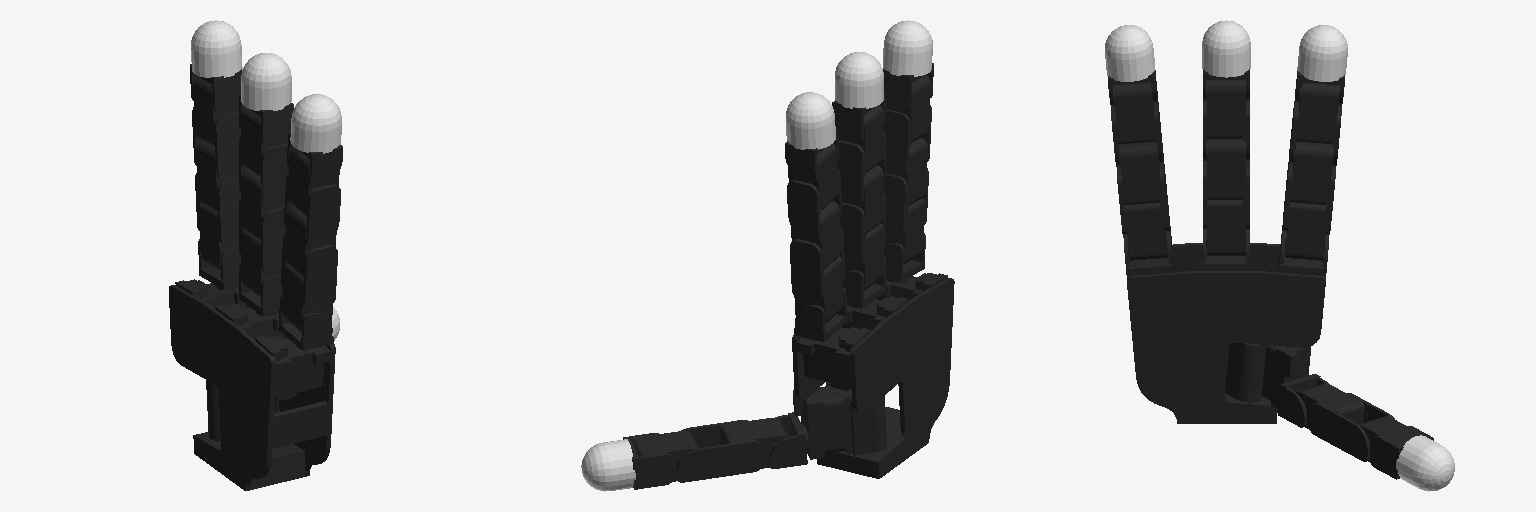
robot.urdf — allegro_hand_right:
<?xml version="1.0" ?>
<!-- =================================================================================== -->
<!-- |    This document was autogenerated by xacro from src/allegro_hand_description/allegro_hand_description_right.xacro | -->
<!-- |    EDITING THIS FILE BY HAND IS NOT RECOMMENDED                                 | -->
<!-- =================================================================================== -->
<robot name="allegro_hand_right">
  <!-- ============================================================================= -->
  <!-- PALM -->
  <link name="palm_link">
    <visual>
      <geometry>
        <mesh filename="allegro_description/meshes/base_link.obj"/>
      </geometry>
      <origin rpy="0 0 0" xyz="0 0 0 "/>
      <material name="black">
        <color rgba="0.2 0.2 0.2 1"/>
      </material>
    </visual>
    <!--
    <collision>
      <origin rpy="0 0 0" xyz="-0.009300 0 -0.0475"/>
      <geometry>
        <box size="0.0408 0.1130 0.095"/>
      </geometry>
    </collision>
    -->
    <collision>
      <origin rpy="0 0 0" xyz="-0.009300 0 -0.025"/>
      <geometry>
        <box size="0.0408 0.112 0.032"/>
      </geometry>
    </collision>
    <collision>
      <origin rpy="0 0 0" xyz="-0.009300 -0.03 -0.063"/>
      <geometry>
        <box size="0.0408 0.052 0.045"/>
      </geometry>
    </collision>
    <inertial>
      <origin rpy="0 0 0" xyz="0 0 0.0475"/>
      <mass value="0.4154"/>
      <inertia ixx="1e-4" ixy="0.0" ixz="0.0" iyy="1e-4" iyz="0.0" izz="1e-4"/>
    </inertial>
  </link>
  <!-- ============================================================================= -->
  <!-- END THUMB MACRO -->
  <!-- [[END]] THREE FINGER MACRO -->
  <!-- [LINK 0, 4, 8] -->
  <link name="link_00">
    <visual>
      <geometry>
        <mesh filename="allegro_description/meshes/link_0.0.obj"/>
      </geometry>
      <material name="black"/>
    </visual>
    <collision>
      <geometry>
        <box size="0.0196 0.0275 0.0164"/>
      </geometry>
      <origin rpy="0 0 0" xyz="0 0 0.0082"/>
    </collision>
    <inertial>
      <mass value="0.0119"/>
      <origin rpy="0 0 0" xyz="0 0 0"/>
      <inertia ixx="1.01666658333e-06" ixy="0.0" ixz="0.0" iyy="6.47677333333e-07" iyz="0.0" izz="1.01666658333e-06"/>
    </inertial>
  </link>
  <joint name="joint_00" type="revolute">
    <axis xyz="0 0 1"/>
    <limit effort="15" lower="-0.47" upper="0.47" velocity="7"/>
    <parent link="palm_link"/>
    <child link="link_00"/>
    <origin rpy="-0.08726646254999999 0 0" xyz="0 0.0435 -0.001542"/>
    <dynamics damping="3" friction="10"/>
  </joint>
  <!-- [LINK 1, 5, 9] -->
  <link name="link_01">
    <visual>
      <geometry>
        <mesh filename="allegro_description/meshes/link_1.0.obj"/>
      </geometry>
      <material name="black"/>
    </visual>
    <collision>
      <geometry>
        <box size="0.0196 0.0275 0.054"/>
      </geometry>
      <origin rpy="0 0 0" xyz="0 0 0.027"/>
    </collision>
    <inertial>
      <mass value="0.065"/>
      <origin rpy="0 0 0" xyz="0 0 0"/>
      <inertia ixx="7.95654166667e-05" ixy="1.7199e-05" ixz="8.75875e-06" iyy="2.47088833333e-05" iyz="2.413125e-05" izz="7.95654166667e-05"/>
    </inertial>
  </link>
  <joint name="joint_01" type="revolute">
    <limit effort="15" lower="-0.19599999999999998" upper="1.6099999999999999" velocity="7"/>
    <axis xyz="0 1 0"/>
    <parent link="link_00"/>
    <child link="link_01"/>
    <origin xyz="0 0 0.0164"/>
    <dynamics damping="3" friction="5"/>
  </joint>
  <!-- [LINK 2, 6, 10]-->
  <link name="link_02">
    <visual>
      <geometry>
        <mesh filename="allegro_description/meshes/link_2.0.obj"/>
      </geometry>
      <material name="black"/>
    </visual>
    <collision>
      <geometry>
        <box size="0.0196 0.0275 0.0384"/>
      </geometry>
      <origin rpy="0 0 0" xyz="0 0 0.0192"/>
    </collision>
    <inertial>
      <mass value="0.0355"/>
      <origin rpy="0 0 0" xyz="0 0 0"/>
      <inertia ixx="2.63979183333e-05" ixy="6.67968e-06" ixz="4.783625e-06" iyy="1.34948516667e-05" iyz="9.372e-06" izz="2.63979183333e-05"/>
    </inertial>
  </link>
  <joint name="joint_02" type="revolute">
    <axis xyz="0 1 0"/>
    <limit effort="15" lower="-0.17400000000000002" upper="1.7089999999999999" velocity="7"/>
    <parent link="link_01"/>
    <child link="link_02"/>
    <origin xyz="0 0 0.054"/>
    <dynamics damping="8" friction="10"/>
  </joint>
  <!-- [LINK 3, 7, 11] -->
  <link name="link_03">
    <visual>
      <geometry>
        <mesh filename="package://allegro_description/meshes/link_3.0.obj"/>
      </geometry>
      <material name="black"/>
    </visual>
    <collision>
      <geometry>
        <box size="0.0196 0.0275 0.026699999999999998"/>
      </geometry>
      <origin rpy="0 0 0" xyz="0 0 0.013349999999999999"/>
    </collision>
    <inertial>
      <mass value="0.0096"/>
      <origin rpy="0 0 0" xyz="0 0 0"/>
      <inertia ixx="4.701248e-06" ixy="1.255968e-06" ixz="1.2936e-06" iyy="3.649312e-06" iyz="1.7622e-06" izz="4.701248e-06"/>
    </inertial>
  </link>
  <joint name="joint_03" type="revolute">
    <axis xyz="0 1 0"/>
    <limit effort="15" lower="-0.227" upper="1.6179999999999999" velocity="7"/>
    <parent link="link_02"/>
    <child link="link_03"/>
    <origin xyz="0 0 0.0384"/>
    <dynamics damping="10" friction="12"/>
  </joint>
  <!-- [FINGER TIP] -->
  <link name="link_03_tip">
    <visual>
      <geometry>
        <mesh filename="allegro_description/meshes/link_3.0_tip.obj"/>
      </geometry>
      <material name="white">
        <color rgba=".9 .9 .9 1"/>
      </material>
    </visual>
    <collision>
      <geometry>
        <sphere radius="0.012"/>
      </geometry>
    </collision>
    <inertial>
      <mass value="0.0168"/>
      <origin rpy="0 0 0" xyz="0 0 0"/>
      <inertia ixx="9.68e-07" ixy="0" ixz="0" iyy="9.68e-07" iyz="0" izz="9.68e-07"/>
    </inertial>
  </link>
  <joint name="joint_03_tip" type="fixed">
    <parent link="link_03"/>
    <child link="link_03_tip"/>
    <origin rpy="0 0 0" xyz="0 0 0.026699999999999998"/>
  </joint>
  <!-- [LINK 0, 4, 8] -->
  <link name="link_04">
    <visual>
      <geometry>
        <mesh filename="allegro_description/meshes/link_0.0.obj"/>
      </geometry>
      <material name="black"/>
    </visual>
    <collision>
      <geometry>
        <box size="0.0196 0.0275 0.0164"/>
      </geometry>
      <origin rpy="0 0 0" xyz="0 0 0.0082"/>
    </collision>
    <inertial>
      <mass value="0.0119"/>
      <origin rpy="0 0 0" xyz="0 0 0"/>
      <inertia ixx="1.01666658333e-06" ixy="0.0" ixz="0.0" iyy="6.47677333333e-07" iyz="0.0" izz="1.01666658333e-06"/>
    </inertial>
  </link>
  <joint name="joint_04" type="revolute">
    <axis xyz="0 0 1"/>
    <limit effort="15" lower="-0.47" upper="0.47" velocity="7"/>
    <parent link="palm_link"/>
    <child link="link_04"/>
    <origin rpy="0.0 0 0" xyz="0 0 0.0007"/>
    <dynamics damping="3" friction="10"/>
  </joint>
  <!-- [LINK 1, 5, 9] -->
  <link name="link_05">
    <visual>
      <geometry>
        <mesh filename="allegro_description/meshes/link_1.0.obj"/>
      </geometry>
      <material name="black"/>
    </visual>
    <collision>
      <geometry>
        <box size="0.0196 0.0275 0.054"/>
      </geometry>
      <origin rpy="0 0 0" xyz="0 0 0.027"/>
    </collision>
    <inertial>
      <mass value="0.065"/>
      <origin rpy="0 0 0" xyz="0 0 0"/>
      <inertia ixx="7.95654166667e-05" ixy="1.7199e-05" ixz="8.75875e-06" iyy="2.47088833333e-05" iyz="2.413125e-05" izz="7.95654166667e-05"/>
    </inertial>
  </link>
  <joint name="joint_05" type="revolute">
    <limit effort="15" lower="-0.19599999999999998" upper="1.6099999999999999" velocity="7"/>
    <axis xyz="0 1 0"/>
    <parent link="link_04"/>
    <child link="link_05"/>
    <origin xyz="0 0 0.0164"/>
    <dynamics damping="3" friction="5"/>
  </joint>
  <!-- [LINK 2, 6, 10]-->
  <link name="link_06">
    <visual>
      <geometry>
        <mesh filename="allegro_description/meshes/link_2.0.obj"/>
      </geometry>
      <material name="black"/>
    </visual>
    <collision>
      <geometry>
        <box size="0.0196 0.0275 0.0384"/>
      </geometry>
      <origin rpy="0 0 0" xyz="0 0 0.0192"/>
    </collision>
    <inertial>
      <mass value="0.0355"/>
      <origin rpy="0 0 0" xyz="0 0 0"/>
      <inertia ixx="2.63979183333e-05" ixy="6.67968e-06" ixz="4.783625e-06" iyy="1.34948516667e-05" iyz="9.372e-06" izz="2.63979183333e-05"/>
    </inertial>
  </link>
  <joint name="joint_06" type="revolute">
    <axis xyz="0 1 0"/>
    <limit effort="15" lower="-0.17400000000000002" upper="1.7089999999999999" velocity="7"/>
    <parent link="link_05"/>
    <child link="link_06"/>
    <origin xyz="0 0 0.054"/>
    <dynamics damping="8" friction="10"/>
  </joint>
  <!-- [LINK 3, 7, 11] -->
  <link name="link_07">
    <visual>
      <geometry>
        <mesh filename="allegro_description/meshes/link_3.0.obj"/>
      </geometry>
      <material name="black"/>
    </visual>
    <collision>
      <geometry>
        <box size="0.0196 0.0275 0.026699999999999998"/>
      </geometry>
      <origin rpy="0 0 0" xyz="0 0 0.013349999999999999"/>
    </collision>
    <inertial>
      <mass value="0.0096"/>
      <origin rpy="0 0 0" xyz="0 0 0"/>
      <inertia ixx="4.701248e-06" ixy="1.255968e-06" ixz="1.2936e-06" iyy="3.649312e-06" iyz="1.7622e-06" izz="4.701248e-06"/>
    </inertial>
  </link>
  <joint name="joint_07" type="revolute">
    <axis xyz="0 1 0"/>
    <limit effort="15" lower="-0.227" upper="1.6179999999999999" velocity="7"/>
    <parent link="link_06"/>
    <child link="link_07"/>
    <origin xyz="0 0 0.0384"/>
    <dynamics damping="10" friction="12"/>
  </joint>
  <!-- [FINGER TIP] -->
  <link name="link_07_tip">
    <visual>
      <geometry>
        <mesh filename="allegro_description/meshes/link_3.0_tip.obj"/>
      </geometry>
      <material name="white">
        <color rgba=".9 .9 .9 1"/>
      </material>
    </visual>
    <collision>
      <geometry>
        <sphere radius="0.012"/>
      </geometry>
    </collision>
    <inertial>
      <mass value="0.0168"/>
      <origin rpy="0 0 0" xyz="0 0 0"/>
      <inertia ixx="9.68e-07" ixy="0" ixz="0" iyy="9.68e-07" iyz="0" izz="9.68e-07"/>
    </inertial>
  </link>
  <joint name="joint_07_tip" type="fixed">
    <parent link="link_07"/>
    <child link="link_07_tip"/>
    <origin rpy="0 0 0" xyz="0 0 0.026699999999999998"/>
  </joint>
  <!-- [LINK 0, 4, 8] -->
  <link name="link_08">
    <visual>
      <geometry>
        <mesh filename="allegro_description/meshes/link_0.0.obj"/>
      </geometry>
      <material name="black"/>
    </visual>
    <collision>
      <geometry>
        <box size="0.0196 0.0275 0.0164"/>
      </geometry>
      <origin rpy="0 0 0" xyz="0 0 0.0082"/>
    </collision>
    <inertial>
      <mass value="0.0119"/>
      <origin rpy="0 0 0" xyz="0 0 0"/>
      <inertia ixx="1.01666658333e-06" ixy="0.0" ixz="0.0" iyy="6.47677333333e-07" iyz="0.0" izz="1.01666658333e-06"/>
    </inertial>
  </link>
  <joint name="joint_08" type="revolute">
    <axis xyz="0 0 1"/>
    <limit effort="15" lower="-0.47" upper="0.47" velocity="7"/>
    <parent link="palm_link"/>
    <child link="link_08"/>
    <origin rpy="0.08726646254999999 0 0" xyz="0 -0.0435 -0.001542"/>
    <dynamics damping="3" friction="10"/>
  </joint>
  <!-- [LINK 1, 5, 9] -->
  <link name="link_09">
    <visual>
      <geometry>
        <mesh filename="allegro_description/meshes/link_1.0.obj"/>
      </geometry>
      <material name="black"/>
    </visual>
    <collision>
      <geometry>
        <box size="0.0196 0.0275 0.054"/>
      </geometry>
      <origin rpy="0 0 0" xyz="0 0 0.027"/>
    </collision>
    <inertial>
      <mass value="0.065"/>
      <origin rpy="0 0 0" xyz="0 0 0"/>
      <inertia ixx="7.95654166667e-05" ixy="1.7199e-05" ixz="8.75875e-06" iyy="2.47088833333e-05" iyz="2.413125e-05" izz="7.95654166667e-05"/>
    </inertial>
  </link>
  <joint name="joint_09" type="revolute">
    <limit effort="15" lower="-0.19599999999999998" upper="1.6099999999999999" velocity="7"/>
    <axis xyz="0 1 0"/>
    <parent link="link_08"/>
    <child link="link_09"/>
    <origin xyz="0 0 0.0164"/>
    <dynamics damping="3" friction="5"/>
  </joint>
  <!-- [LINK 2, 6, 10]-->
  <link name="link_10">
    <visual>
      <geometry>
        <mesh filename="allegro_description/meshes/link_2.0.obj"/>
      </geometry>
      <material name="black"/>
    </visual>
    <collision>
      <geometry>
        <box size="0.0196 0.0275 0.0384"/>
      </geometry>
      <origin rpy="0 0 0" xyz="0 0 0.0192"/>
    </collision>
    <inertial>
      <mass value="0.0355"/>
      <origin rpy="0 0 0" xyz="0 0 0"/>
      <inertia ixx="2.63979183333e-05" ixy="6.67968e-06" ixz="4.783625e-06" iyy="1.34948516667e-05" iyz="9.372e-06" izz="2.63979183333e-05"/>
    </inertial>
  </link>
  <joint name="joint_10" type="revolute">
    <axis xyz="0 1 0"/>
    <limit effort="15" lower="-0.17400000000000002" upper="1.7089999999999999" velocity="7"/>
    <parent link="link_09"/>
    <child link="link_10"/>
    <origin xyz="0 0 0.054"/>
    <dynamics damping="8" friction="10"/>
  </joint>
  <!-- [LINK 3, 7, 11] -->
  <link name="link_11">
    <visual>
      <geometry>
        <mesh filename="allegro_description/meshes/link_3.0.obj"/>
      </geometry>
      <material name="black"/>
    </visual>
    <collision>
      <geometry>
        <box size="0.0196 0.0275 0.026699999999999998"/>
      </geometry>
      <origin rpy="0 0 0" xyz="0 0 0.013349999999999999"/>
    </collision>
    <inertial>
      <mass value="0.0096"/>
      <origin rpy="0 0 0" xyz="0 0 0"/>
      <inertia ixx="4.701248e-06" ixy="1.255968e-06" ixz="1.2936e-06" iyy="3.649312e-06" iyz="1.7622e-06" izz="4.701248e-06"/>
    </inertial>
  </link>
  <joint name="joint_11" type="revolute">
    <axis xyz="0 1 0"/>
    <limit effort="15" lower="-0.227" upper="1.6179999999999999" velocity="7"/>
    <parent link="link_10"/>
    <child link="link_11"/>
    <origin xyz="0 0 0.0384"/>
    <dynamics damping="10" friction="12"/>
  </joint>
  <!-- [FINGER TIP] -->
  <link name="link_11_tip">
    <visual>
      <geometry>
        <mesh filename="allegro_description/meshes/link_3.0_tip.obj"/>
      </geometry>
      <material name="white">
        <color rgba=".9 .9 .9 1"/>
      </material>
    </visual>
    <collision>
      <geometry>
        <sphere radius="0.012"/>
      </geometry>
    </collision>
    <inertial>
      <mass value="0.0168"/>
      <origin rpy="0 0 0" xyz="0 0 0"/>
      <inertia ixx="9.68e-07" ixy="0" ixz="0" iyy="9.68e-07" iyz="0" izz="9.68e-07"/>
    </inertial>
  </link>
  <joint name="joint_11_tip" type="fixed">
    <parent link="link_11"/>
    <child link="link_11_tip"/>
    <origin rpy="0 0 0" xyz="0 0 0.026699999999999998"/>
  </joint>
  <!-- [LINK 12] -->
  <link name="link_12">
    <visual>
      <geometry>
        <mesh filename="allegro_description/meshes/link_12.0_right.obj"/>
      </geometry>
      <material name="black">
        <color rgba=".2 .2 .2 1"/>
      </material>
      <origin rpy="0.01745329251 0 0" xyz="0 0 0"/>
    </visual>
    <collision>
      <geometry>
        <box size="0.0358 0.034 0.0455"/>
      </geometry>
      <origin rpy="0 0 0" xyz="-0.0179 0.009 0.0145"/>
    </collision>
    <inertial>
      <mass value="0.0176"/>
      <origin rpy="0 0 0" xyz="0 0 0"/>
      <inertia ixx="1.89273333333e-5" ixy="7.16716e-06" ixz="5.35568e-06" iyy="1.43008213333e-05" iyz="6.8068e-06" izz="1.89273333333e-05"/>
    </inertial>
  </link>
  <joint name="joint_12" type="revolute">
    <axis xyz="-1 0 0"/>
    <limit effort="15" lower="0.263" upper="1.396" velocity="7"/>
    <parent link="palm_link"/>
    <child link="link_12"/>
    <origin rpy="0 -1.6580627884499999 -1.5707963259" xyz="-0.0182 0.019333 -0.045987"/>
    <dynamics damping="3" friction="10"/>
  </joint>
  <!-- [LINK 13] -->
  <link name="link_13">
    <visual>
      <geometry>
        <mesh filename="allegro_description/meshes/link_13.0.obj"/>
      </geometry>
      <material name="black">
        <color rgba=".2 .2 .2 1"/>
      </material>
    </visual>
    <collision>
      <geometry>
        <box size="0.0196 0.0275 0.0177"/>
      </geometry>
      <origin rpy="0 0 0" xyz="0 0 0.00885"/>
    </collision>
    <inertial>
      <mass value="0.0119"/>
      <origin rpy="0 0 0" xyz="0 0 0"/>
      <inertia ixx="4.24250866667e-06" ixy="1.032087e-06" ixz="1.603525e-06" iyy="4.52362633333e-06" iyz="1.44808125e-06" izz="4.24250866667e-06"/>
    </inertial>
  </link>
  <joint name="joint_13" type="revolute">
    <axis xyz="0 0 1"/>
    <limit effort="15" lower="-0.10499999999999998" upper="1.1629999999999998" velocity="7"/>
    <parent link="link_12"/>
    <child link="link_13"/>
    <origin xyz="-0.027 0.005 0.0399"/>
    <dynamics damping="3" friction="5"/>
  </joint>
  <!-- [LINK 14] -->
  <link name="link_14">
    <visual>
      <geometry>
        <mesh filename="allegro_description/meshes/link_14.0.obj"/>
      </geometry>
      <material name="black">
                </material>
    </visual>
    <collision>
      <geometry>
        <box size="0.0196 0.0275 0.0514"/>
      </geometry>
      <origin rpy="0 0 0" xyz="0 0 0.0257"/>
    </collision>
    <inertial>
      <mass value="0.038"/>
      <origin rpy="0 0 0" xyz="0 0 0"/>
      <inertia ixx="4.30439933333e-05" ixy="9.57068e-06" ixz="5.1205e-06" iyy="1.44451933333e-05" iyz="1.342825e-05" izz="4.30439933333e-05"/>
    </inertial>
  </link>
  <joint name="joint_14" type="revolute">
    <axis xyz="0 1 0"/>
    <limit effort="15" lower="-0.18899999999999997" upper="1.644" velocity="7"/>
    <parent link="link_13"/>
    <child link="link_14"/>
    <origin xyz="0 0 0.0177"/>
    <dynamics damping="3" friction="10"/>
  </joint>
  <!-- [LINK 15] -->
  <link name="link_15">
    <visual>
      <geometry>
        <mesh filename="allegro_description/meshes/link_15.0.obj"/>
      </geometry>
      <material name="black">
                </material>
    </visual>
    <collision>
      <geometry>
        <box size="0.0196 0.0275 0.042300000000000004"/>
      </geometry>
      <origin rpy="0 0 0" xyz="0 0 0.021150000000000002"/>
    </collision>
    <inertial>
      <mass value="0.0388"/>
      <origin rpy="0 0 0" xyz="0 0 0"/>
      <inertia ixx="3.29223173333e-05" ixy="8.042076e-06" ixz="5.2283e-06" iyy="1.47493026667e-5" iyz="1.1283525e-5" izz="3.29223173333e-05"/>
    </inertial>
  </link>
  <joint name="joint_15" type="revolute">
    <axis xyz="0 1 0"/>
    <limit effort="15" lower="-0.162" upper="1.7189999999999999" velocity="7"/>
    <parent link="link_14"/>
    <child link="link_15"/>
    <origin xyz="0 0 0.0514"/>
    <dynamics damping="3" friction="12"/>
  </joint>
  <!-- [FINGER TIP] -->
  <link name="link_15_tip">
    <visual>
      <geometry>
        <mesh filename="allegro_description/meshes/link_15.0_tip.obj"/>
      </geometry>
      <material name="white">
        <color rgba=".9 .9 .9 1"/>
      </material>
    </visual>
    <collision>
      <geometry>
        <sphere radius="0.012"/>
      </geometry>
      <origin rpy="0 0 0" xyz="0 0 0"/>
    </collision>
    <inertial>
      <mass value="0.0168"/>
      <origin rpy="0 0 0" xyz="0 0 0"/>
      <inertia ixx="9.68e-07" ixy="0" ixz="0" iyy="9.68e-07" iyz="0" izz="9.68e-07"/>
    </inertial>
  </link>
  <joint name="joint_15_tip" type="fixed">
    <parent link="link_15"/>
    <child link="link_15_tip"/>
    <origin rpy="0 0 0" xyz="0 0 0.042300000000000004"/>
  </joint>
</robot>

--- Facts derived from the render (not from the file) ---
Views: 3 orthographic renders of the robot side by side, from view 1: azimuth 30°, elevation 25°; view 2: azimuth 150°, elevation 25°; view 3: azimuth 270°, elevation 25°.
Model allegro_hand_right with 21 links and 20 joints (16 revolute, 4 fixed), rooted at palm_link, posed all joints at 0 but 1 set to mid-range because 0 is outside their limits (joint_12 = 0.8295).
Visible links, largest first — view 1: palm_link, link_09, link_05, link_01, link_10, link_02, link_06, link_11_tip, link_07_tip, link_03_tip, link_08, link_07 (+5 smaller); view 2: palm_link, link_14, link_12, link_01, link_05, link_09, link_02, link_10, link_06, link_15, link_03_tip, link_07_tip (+9 smaller); view 3: palm_link, link_01, link_09, link_05, link_12, link_14, link_10, link_02, link_06, link_15_tip, link_07_tip, link_03_tip (+6 smaller).
Link boxes in pixels (<box>): palm_link: <box>169,279,335,490</box>; link_09: <box>281,205,337,332</box>; link_05: <box>239,169,285,297</box>; link_01: <box>195,141,240,270</box>; link_10: <box>284,147,340,248</box>; link_02: <box>192,77,240,179</box>; link_06: <box>239,107,290,209</box>; link_11_tip: <box>290,94,341,153</box>; link_07_tip: <box>241,53,291,110</box>; link_03_tip: <box>191,20,242,77</box>; link_08: <box>278,296,333,350</box>; link_07: <box>239,94,293,146</box>; palm_link: <box>792,273,954,478</box>; link_14: <box>676,418,787,482</box>; link_12: <box>793,382,886,459</box>; link_01: <box>790,201,845,323</box>; link_05: <box>840,165,885,290</box>; link_09: <box>884,138,928,263</box>; link_02: <box>787,144,842,242</box>; link_10: <box>884,75,931,175</box>; link_06: <box>836,105,885,204</box>; link_15: <box>623,431,697,489</box>; link_03_tip: <box>786,92,835,149</box>; link_07_tip: <box>835,52,883,108</box>; palm_link: <box>1127,243,1325,423</box>; link_01: <box>1283,142,1335,260</box>; link_09: <box>1117,142,1169,260</box>; link_05: <box>1203,139,1249,255</box>; link_12: <box>1225,343,1310,408</box>; link_14: <box>1296,383,1394,461</box>; link_10: <box>1111,83,1163,166</box>; link_02: <box>1289,83,1341,166</box>; link_06: <box>1203,80,1249,160</box>; link_15_tip: <box>1396,435,1454,491</box>; link_07_tip: <box>1202,20,1250,77</box>; link_03_tip: <box>1297,25,1347,81</box>.
Size in the robot's own frame: 0.1417 by 0.1997 by 0.2477 metres.
21 mesh visuals loaded from 12 distinct referenced files (11 OBJ).
